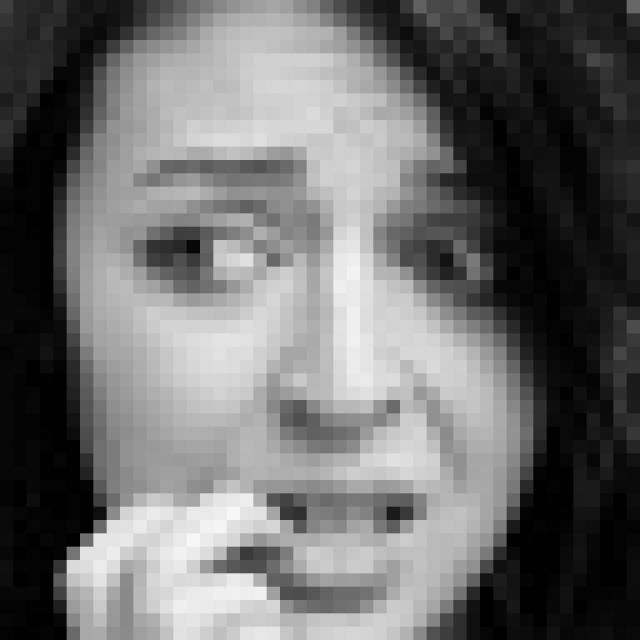fear: (126, 144, 503, 616)
